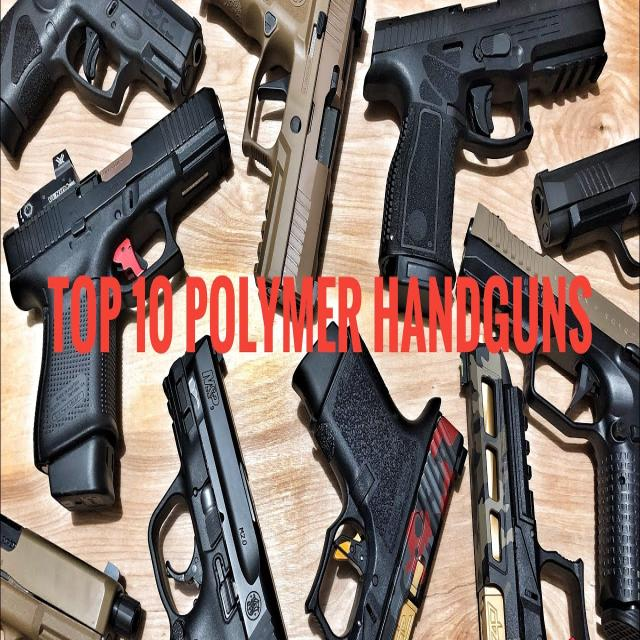HandGun: (3, 88, 236, 524), (363, 0, 608, 324), (458, 204, 640, 640), (203, 0, 367, 355), (292, 322, 468, 640), (146, 338, 286, 640), (460, 347, 590, 640), (0, 0, 204, 168), (0, 515, 144, 640), (532, 140, 640, 286)
